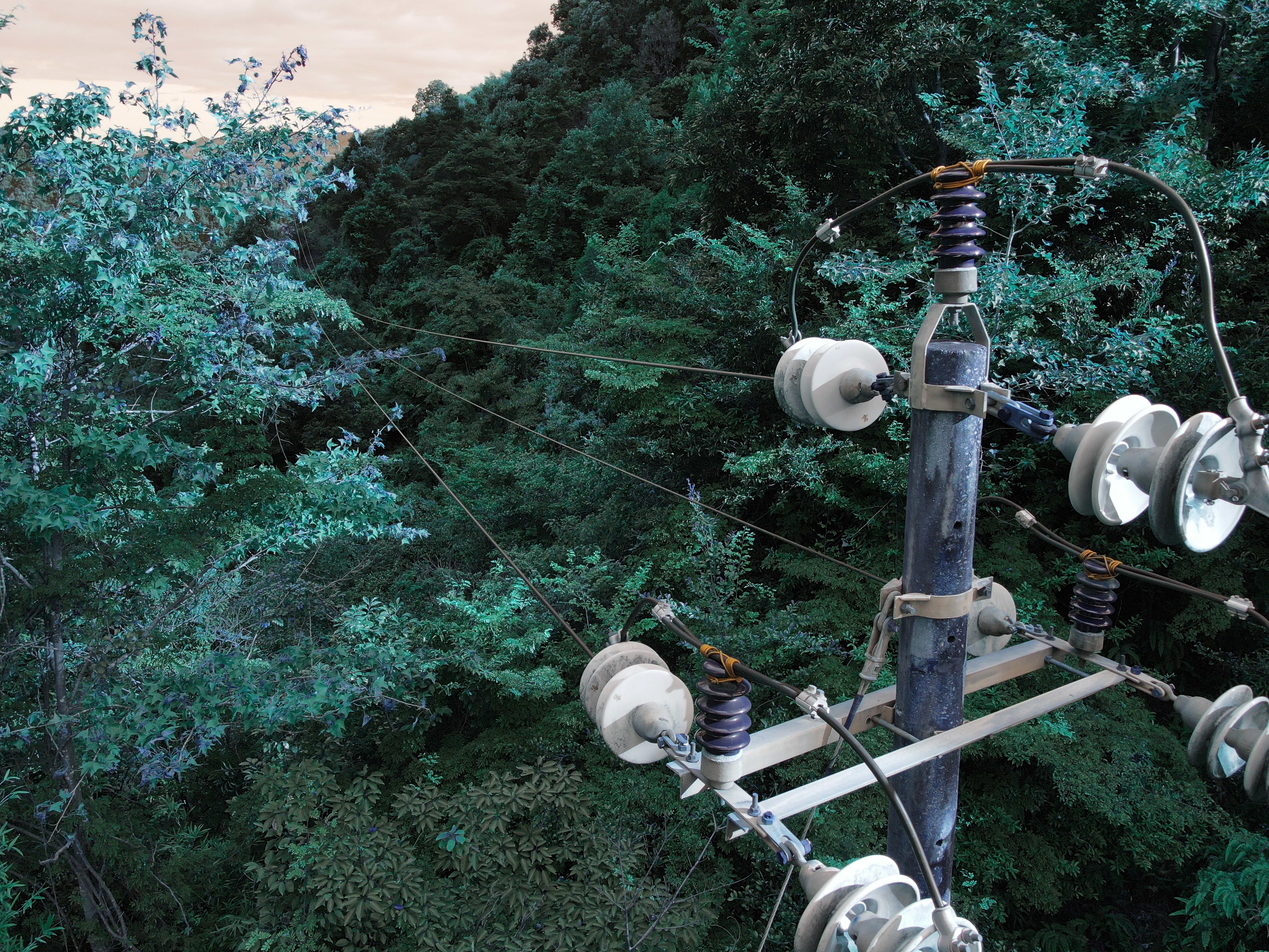severe_soiling_no_discharge_whole: (1048, 389, 1253, 556), (792, 848, 983, 946), (577, 639, 694, 768), (1170, 675, 1266, 804), (771, 336, 893, 430)
